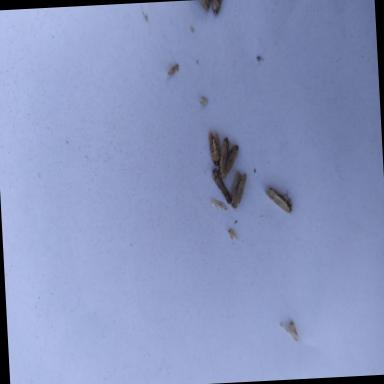pbw: (216, 140, 242, 182), (264, 186, 296, 216), (210, 167, 232, 202), (228, 178, 247, 212), (208, 132, 221, 168), (209, 0, 225, 18)
